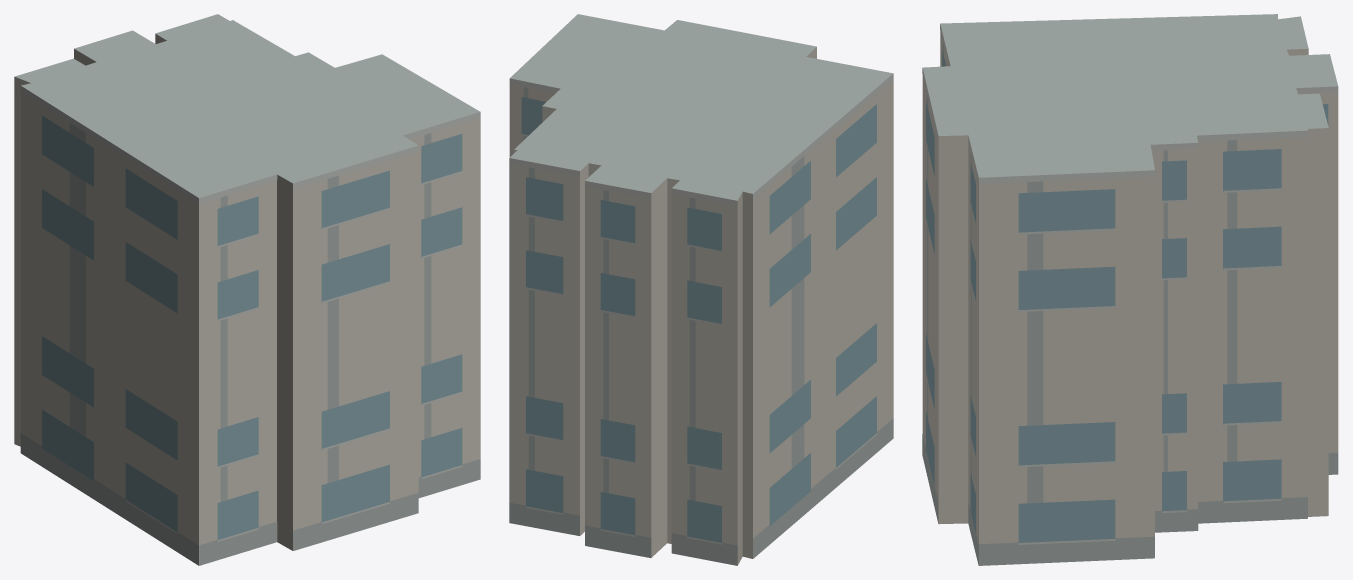
Rendered from survey-upis-32893767.glb.
The picture shows the model from 3 angles, left to right: view 1: azimuth 30°, elevation 25°; view 2: azimuth 150°, elevation 25°; view 3: azimuth 270°, elevation 25°; orthographic projection. The views are drawn at different scales.
Visible parts, largest first — view 1: survey-upis-32893767.tmp; view 2: survey-upis-32893767.tmp; view 3: survey-upis-32893767.tmp.
Boxes of the visible parts, x1,y1,x2,y2 form: survey-upis-32893767.tmp: (14,14,480,565); survey-upis-32893767.tmp: (509,14,893,565); survey-upis-32893767.tmp: (922,14,1338,565).
Size of the model in its own units: 13.59 by 15 by 14.57.
